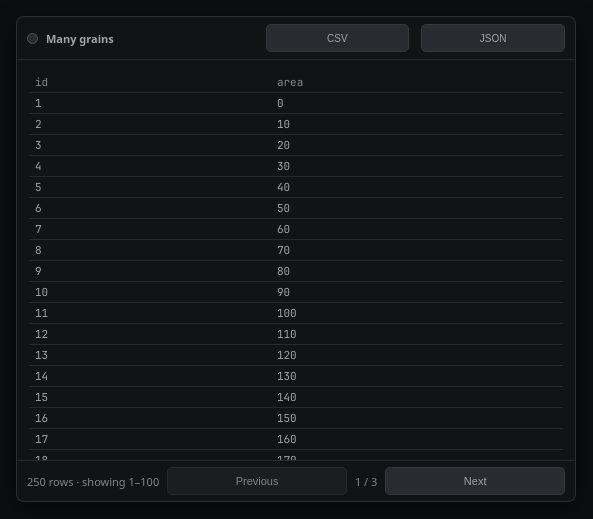
it: ResultsWindow pagination › renders a bounded page while retaining the full row count
The width and height of the screenshot is (593, 519).
expect the text "250 rows · showing 1–100" is shown: met, box [27, 474, 159, 488]
expect the text "1" is shown: met, box [29, 92, 271, 114]
Click the button "Next".
click(475, 481)  # box [385, 467, 565, 495]
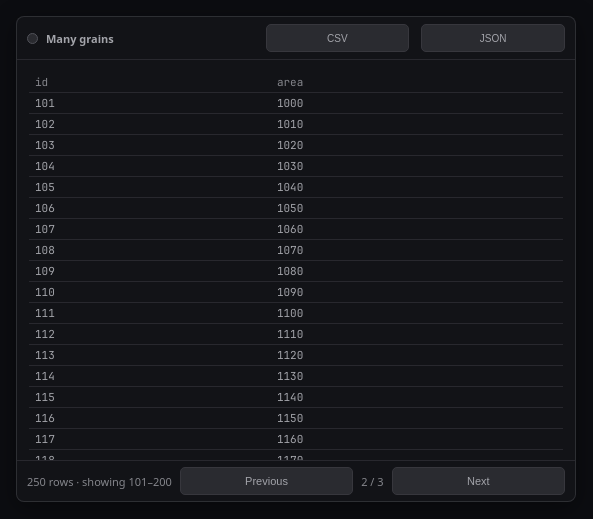
expect the text "250 rows · showing 101–200" is shown: met, box [27, 474, 172, 488]
expect the text "101" is shown: met, box [29, 92, 271, 114]
